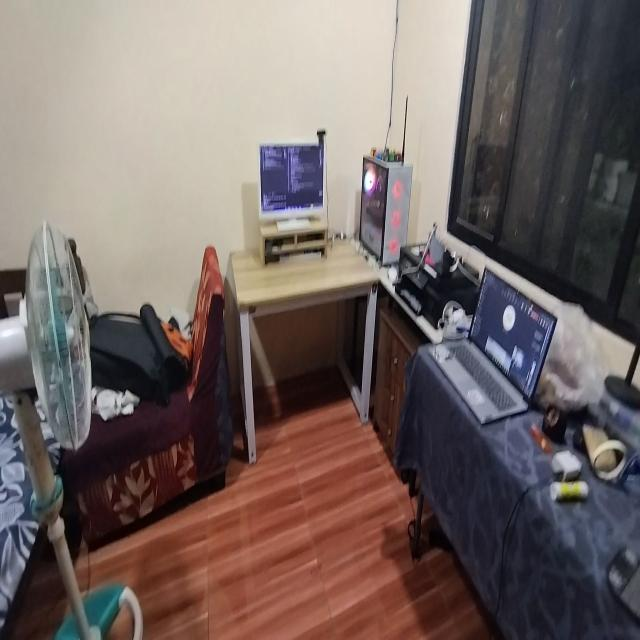table: (233, 236, 381, 458)
